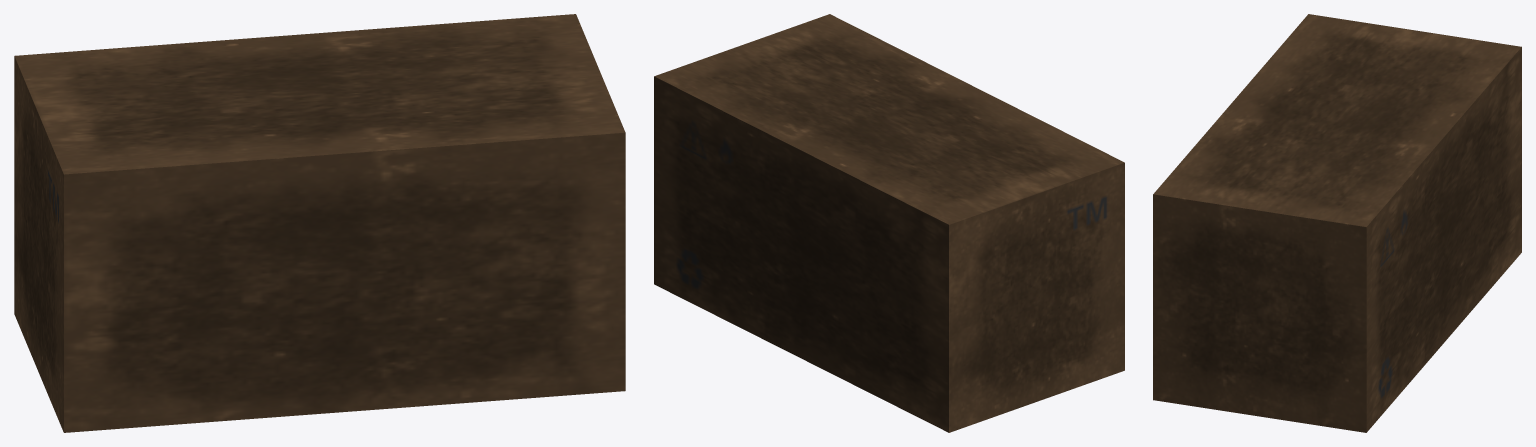
3 views of the same model, side by side, from view 1: azimuth 30°, elevation 25°; view 2: azimuth 150°, elevation 25°; view 3: azimuth 270°, elevation 25° (orthographic). The views are drawn at different scales.
Visible parts, largest first — view 1: Cube.002_misc_0; view 2: Cube.002_misc_0; view 3: Cube.002_misc_0.
Part boxes in pixels (x1,y1,x2,y2): Cube.002_misc_0: (14, 14, 625, 432); Cube.002_misc_0: (654, 14, 1124, 432); Cube.002_misc_0: (1153, 14, 1521, 432).
Bounding box in the file's own units: 0.5554 × 0.25 × 0.4059.
Materials: 1 (1 with a texture image).
